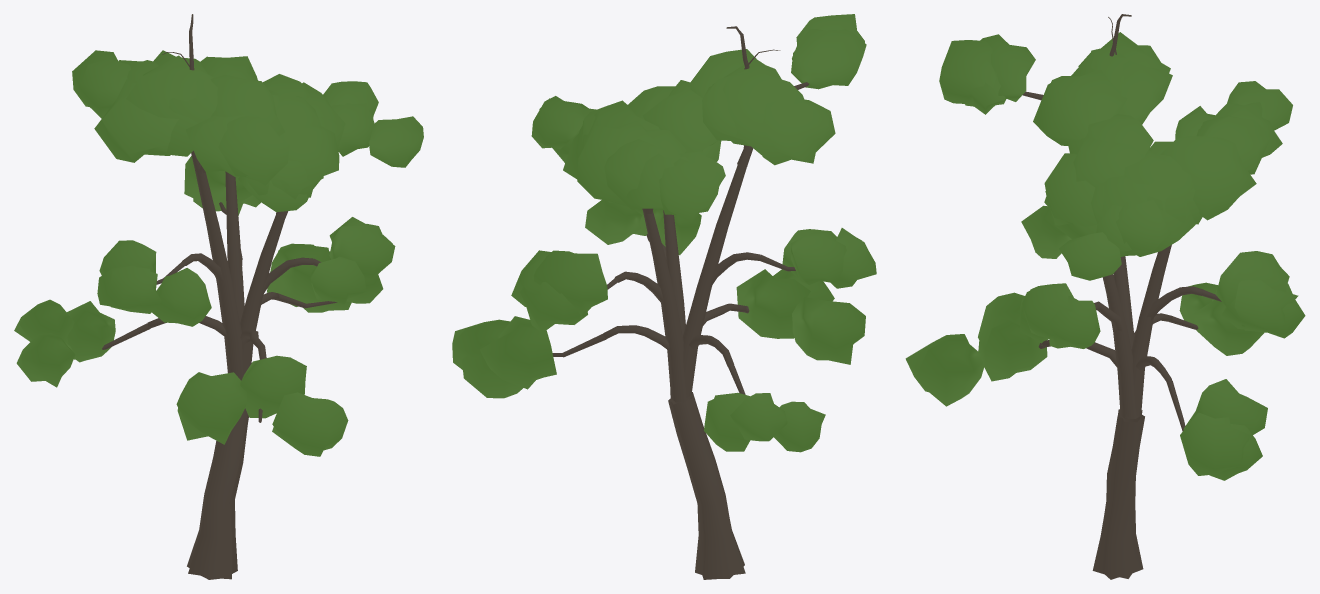
Rendered from Blender_ChestnutOak_2.glb.
The picture shows the model from 3 angles, left to right: view 1: azimuth 30°, elevation 25°; view 2: azimuth 150°, elevation 25°; view 3: azimuth 270°, elevation 25°; orthographic projection.
Parts seen in each view (by area): view 1: Blender_ChestnutOak_2; view 2: Blender_ChestnutOak_2; view 3: Blender_ChestnutOak_2.
Boxes of the visible parts, <box> form: Blender_ChestnutOak_2: <box>14,14,423,579</box>; Blender_ChestnutOak_2: <box>452,14,876,579</box>; Blender_ChestnutOak_2: <box>905,14,1305,579</box>.
Size of the model in its own units: 13.06 by 19.12 by 12.65.
